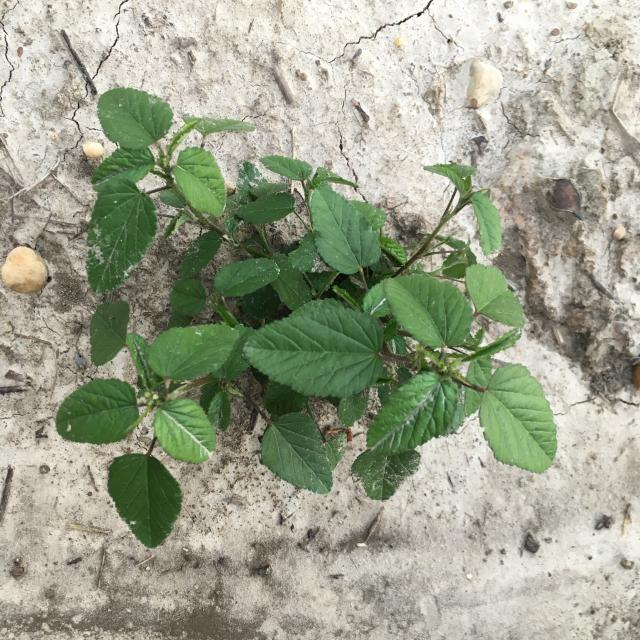PricklySida: (55, 87, 558, 549)
